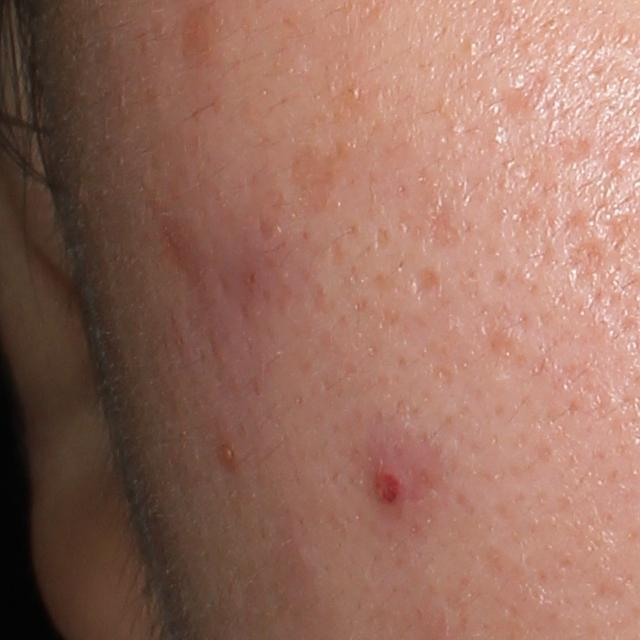atrophic_scar: (426, 189, 463, 255), (565, 237, 606, 291), (552, 134, 595, 167), (498, 85, 529, 126), (410, 263, 442, 301)
papule: (371, 459, 412, 514), (214, 439, 239, 469)
